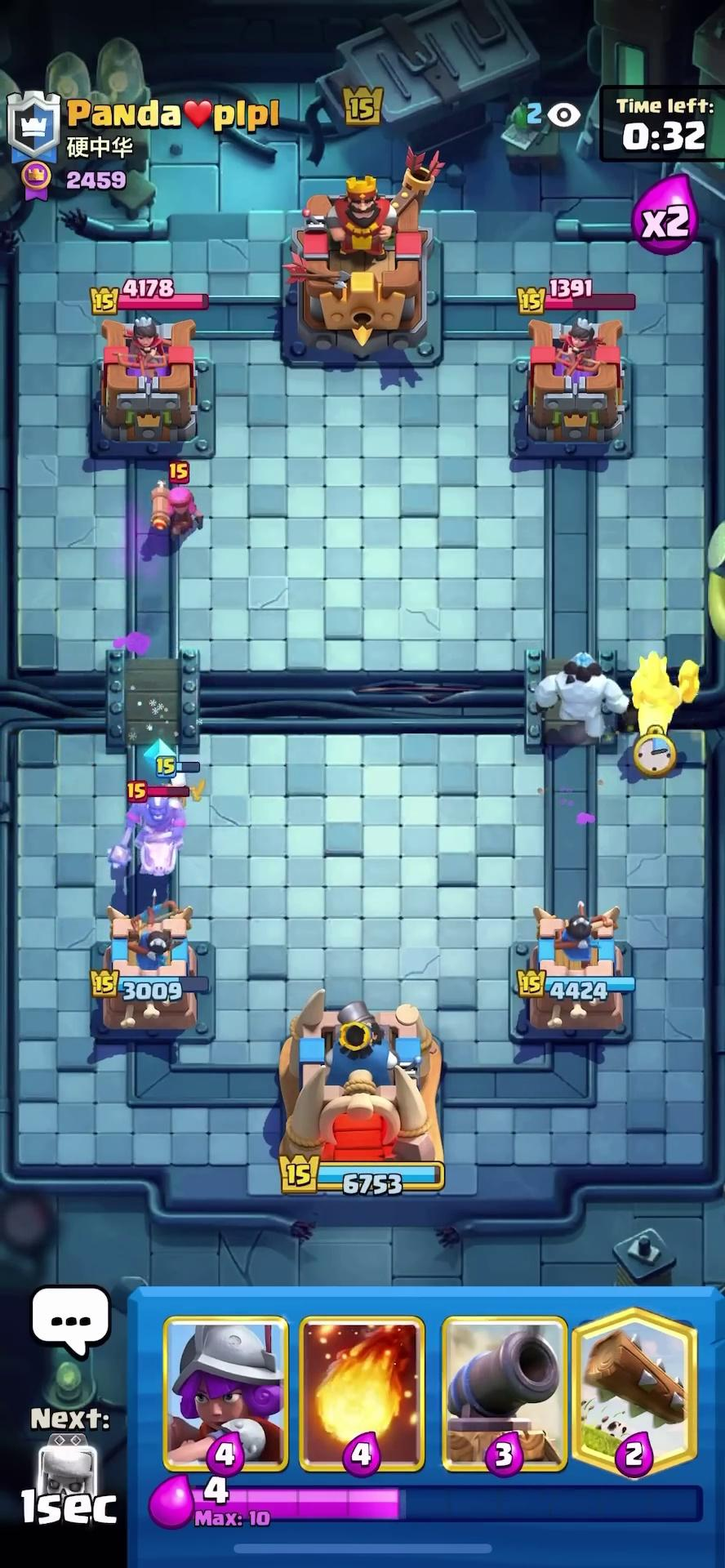hog_rider: (612, 649, 725, 743)
ice_golem: (533, 653, 635, 727)
skeletons: (161, 753, 206, 804)
